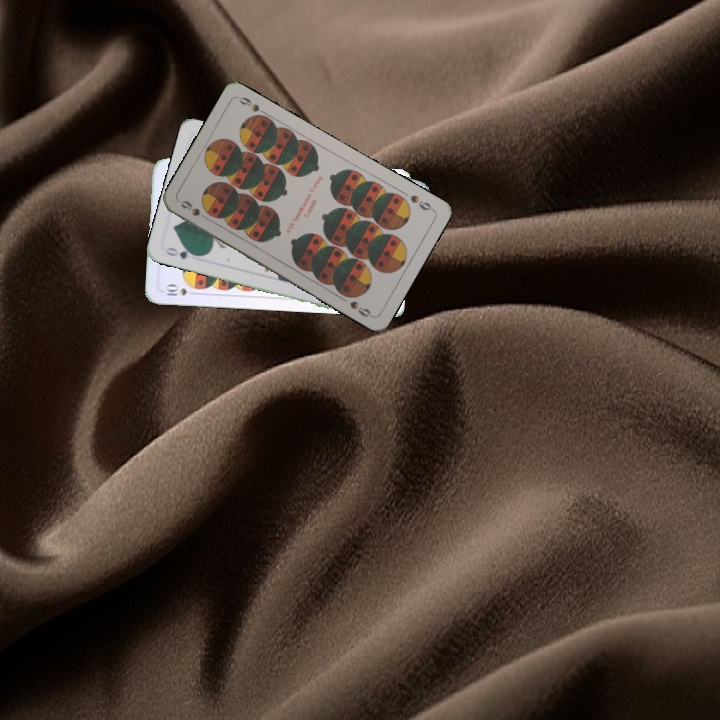GO: (162, 243, 202, 262)
S10: (162, 281, 200, 298)
S9: (176, 196, 213, 223), (406, 191, 436, 213)
